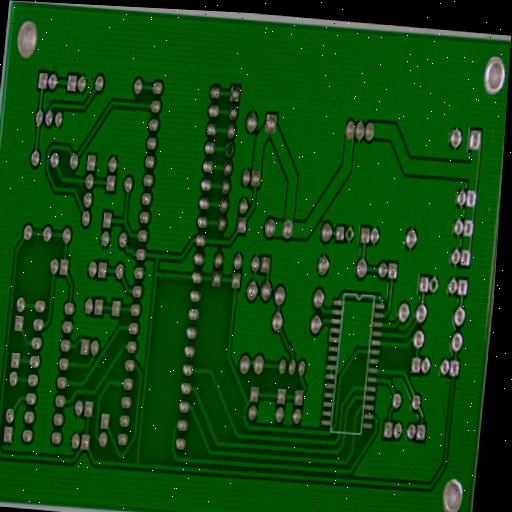missing_hole: (428, 272, 440, 294), (344, 223, 354, 243), (224, 141, 234, 159)
